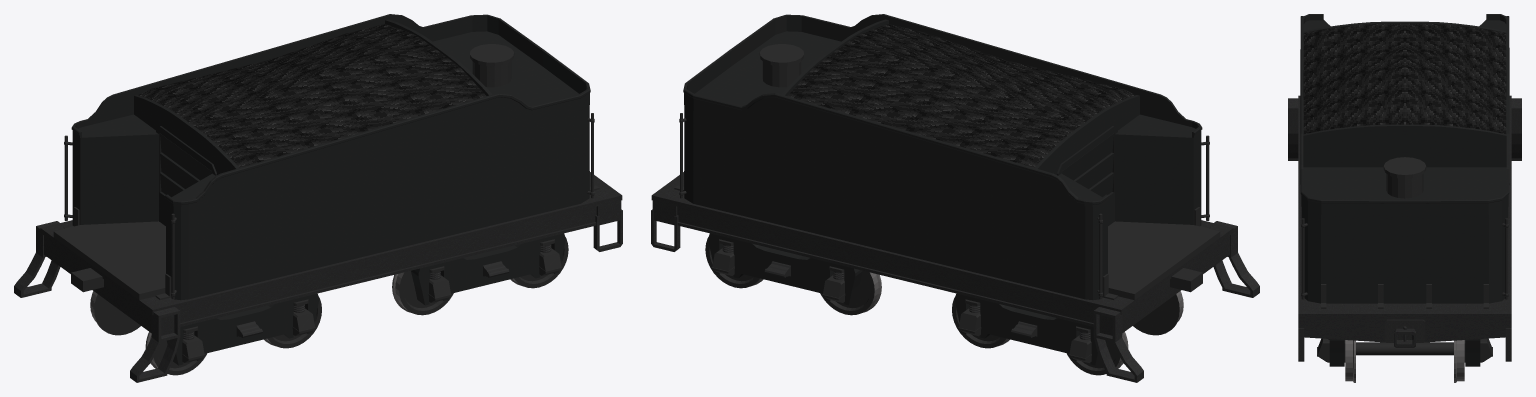
File: rodgers_460_tender.obj
3 renders of one model, left to right at view 1: azimuth 30°, elevation 25°; view 2: azimuth 150°, elevation 25°; view 3: azimuth 270°, elevation 25°, orthographic. The views are drawn at different scales.
Visible parts, largest first — view 1: SHELL_Cube.000, CoalLoad_Plane, FRAME_Cube.003, BOGIE_2_Cube.001, BOGIE_1_Cube.004, BOGIE_1_WHEEL_1_Cylinder.002, BOGIE_2_WHEEL_1_Cylinder.004, COUPLER_1_Cube, BOGIE_2_WHEEL_2_Cylinder.005, BOGIE_1_WHEEL_2_Cylinder.003; view 2: SHELL_Cube.000, CoalLoad_Plane, FRAME_Cube.003, BOGIE_2_Cube.001, BOGIE_1_Cube.004, BOGIE_1_WHEEL_1_Cylinder.002, BOGIE_2_WHEEL_1_Cylinder.004, COUPLER_1_Cube, BOGIE_2_WHEEL_2_Cylinder.005, BOGIE_1_WHEEL_2_Cylinder.003; view 3: SHELL_Cube.000, CoalLoad_Plane, FRAME_Cube.003, BOGIE_2_WHEEL_2_Cylinder.005, BOGIE_2_Cube.001.
Boxes of the visible parts, x1,y1,x2,y2 form: SHELL_Cube.000: (53,14,599,300); CoalLoad_Plane: (138,24,486,167); FRAME_Cube.003: (14,172,622,382); BOGIE_2_Cube.001: (411,233,565,305); BOGIE_1_Cube.004: (167,293,319,365); BOGIE_1_WHEEL_1_Cylinder.002: (90,291,206,375); BOGIE_2_WHEEL_1_Cylinder.004: (392,271,453,315); COUPLER_1_Cube: (71,268,103,292); BOGIE_2_WHEEL_2_Cylinder.005: (510,237,568,288); BOGIE_1_WHEEL_2_Cylinder.003: (264,297,321,348); SHELL_Cube.000: (674,14,1220,300); CoalLoad_Plane: (787,24,1135,167); FRAME_Cube.003: (651,172,1259,382); BOGIE_2_Cube.001: (708,233,862,305); BOGIE_1_Cube.004: (954,293,1106,365); BOGIE_1_WHEEL_1_Cylinder.002: (1067,291,1183,375); BOGIE_2_WHEEL_1_Cylinder.004: (820,271,881,315); COUPLER_1_Cube: (1170,268,1202,292); BOGIE_2_WHEEL_2_Cylinder.005: (705,237,763,288); BOGIE_1_WHEEL_2_Cylinder.003: (952,297,1009,348); SHELL_Cube.000: (1300,14,1509,308); CoalLoad_Plane: (1303,23,1506,133); FRAME_Cube.003: (1288,95,1521,361); BOGIE_2_WHEEL_2_Cylinder.005: (1345,340,1464,382); BOGIE_2_Cube.001: (1317,338,1492,366).
Size of the model in its own units: 7.72 by 3.51 by 3.27.
6 materials, 6 textured.
